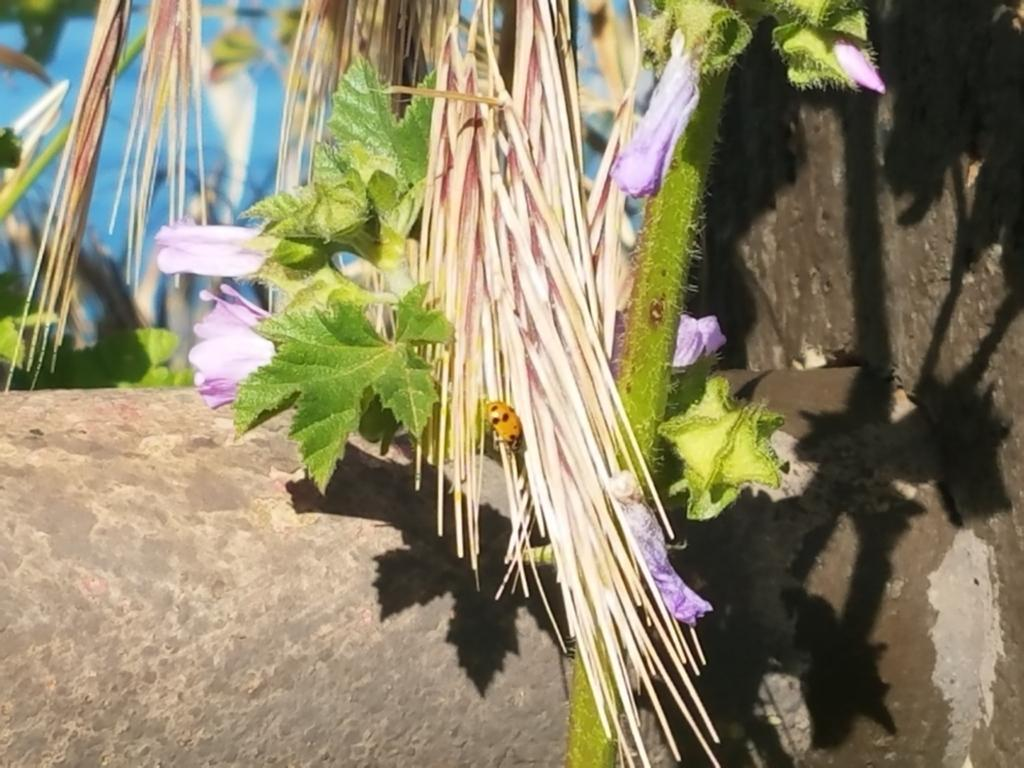ladybug: (484, 401, 525, 460)
